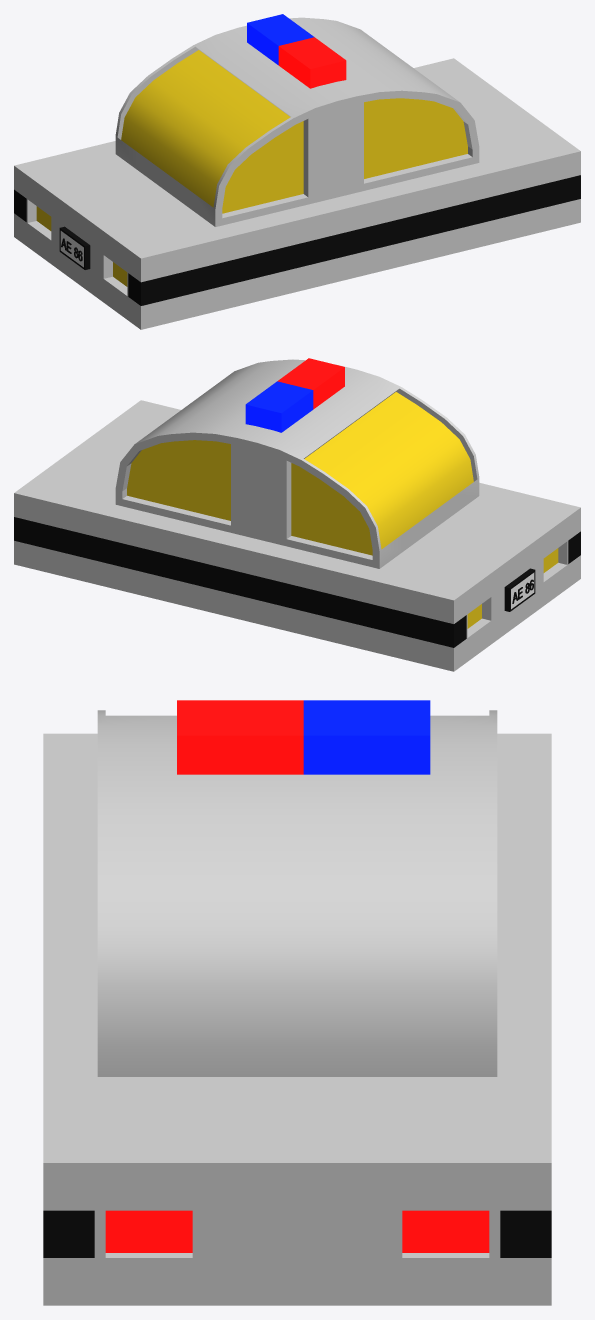
File: policecar.FBX
The picture shows the model from 3 angles, top to bottom: view 1: azimuth 30°, elevation 25°; view 2: azimuth 150°, elevation 25°; view 3: azimuth 270°, elevation 25°; orthographic projection. The views are drawn at different scales.
Visible parts, largest first — view 1: Box001; view 2: Box001; view 3: Box001.
Part boxes in pixels (x1,y1,x2,y2): Box001: (14, 14, 580, 329); Box001: (14, 358, 580, 671); Box001: (43, 700, 551, 1305).
Bounding box in the file's own units: 79.84 × 31.96 × 39.37.
